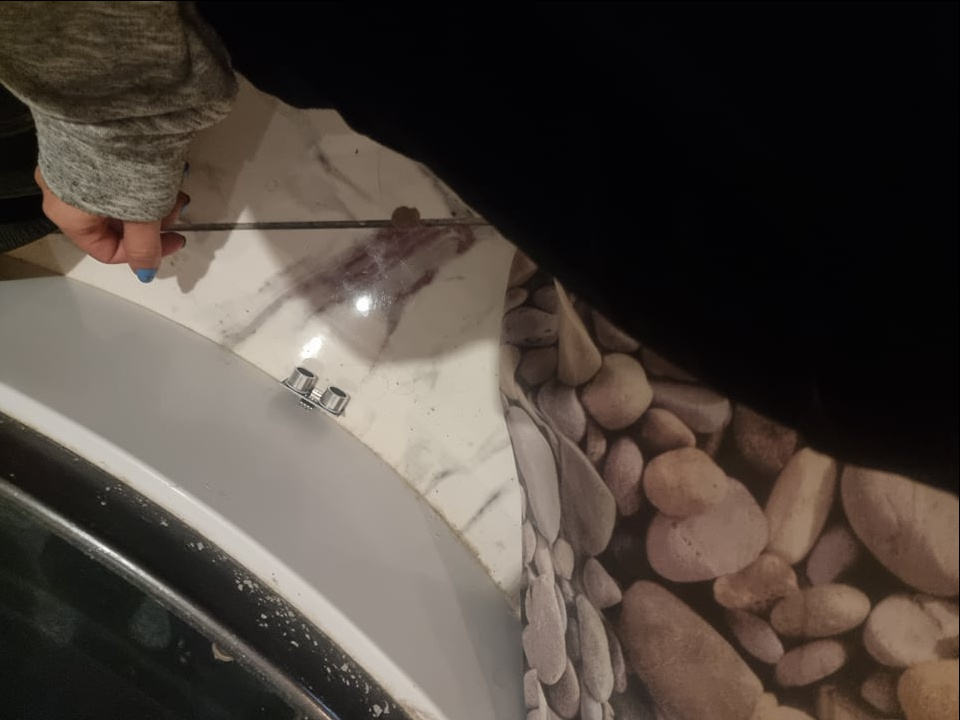SENSOR: (280, 364, 353, 418)
